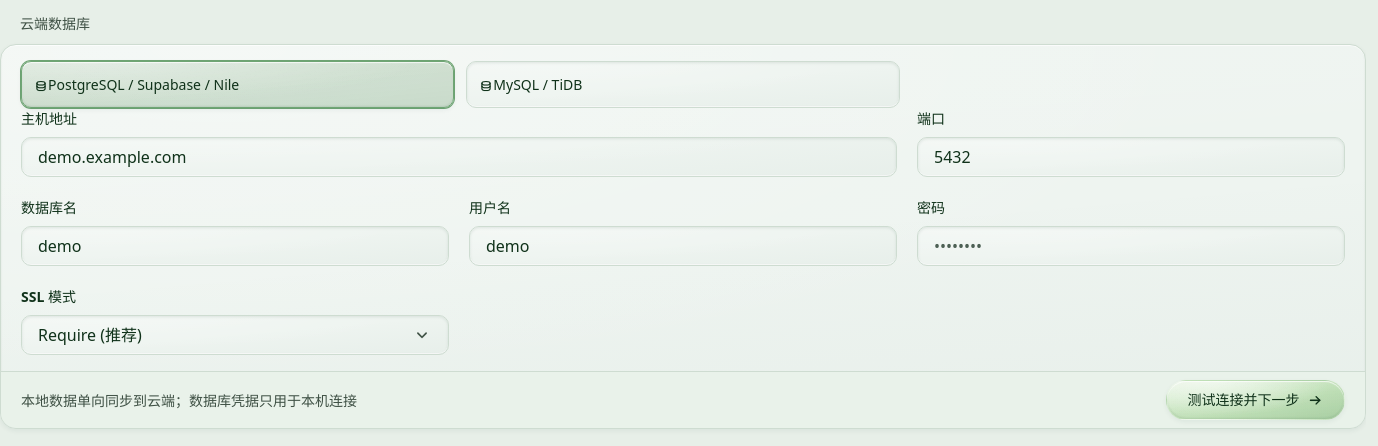
Test: DataSyncPanel design-system composition › labels missing remote tables as 未建表 when remote_count is -1
Expected: the field labelled "主机地址" is shown, [21,137,897,177]
Click the button "测试连接并下一步". click: {"x": 1256, "y": 400}
box: [1166,380,1345,420]
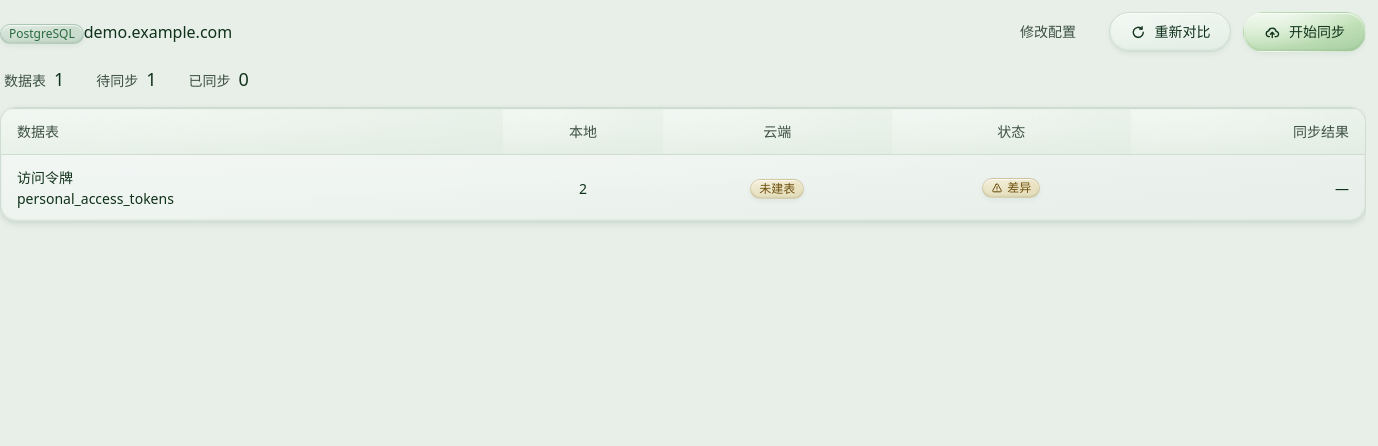
Expected: the text "访问令牌" is shown, [17,168,73,187]
Expected: the text "未建表" is shown, [750,179,804,199]
